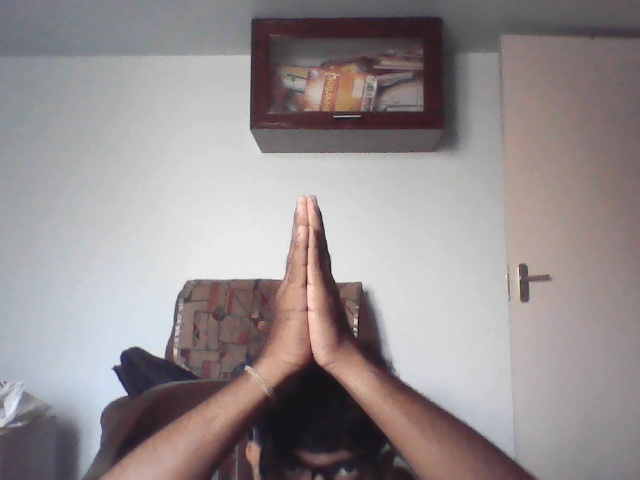Sign: (239, 192, 365, 391)
